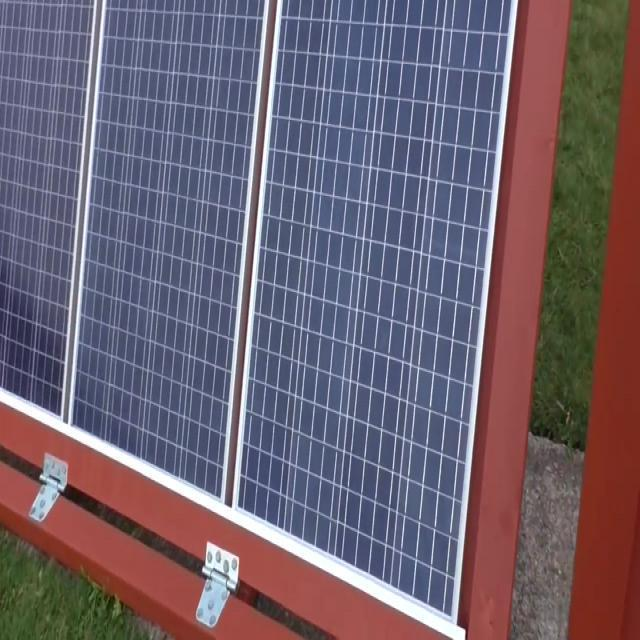Normal Solar Panel: (0, 0, 517, 624)
